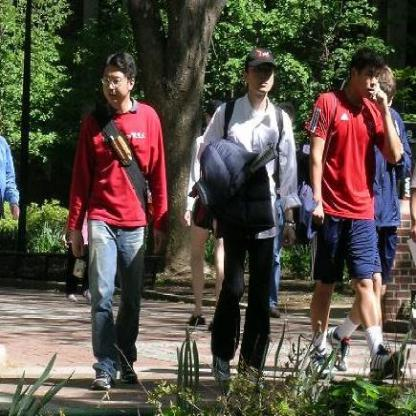person: (187, 45, 301, 388), (62, 48, 172, 399), (307, 36, 404, 386)
